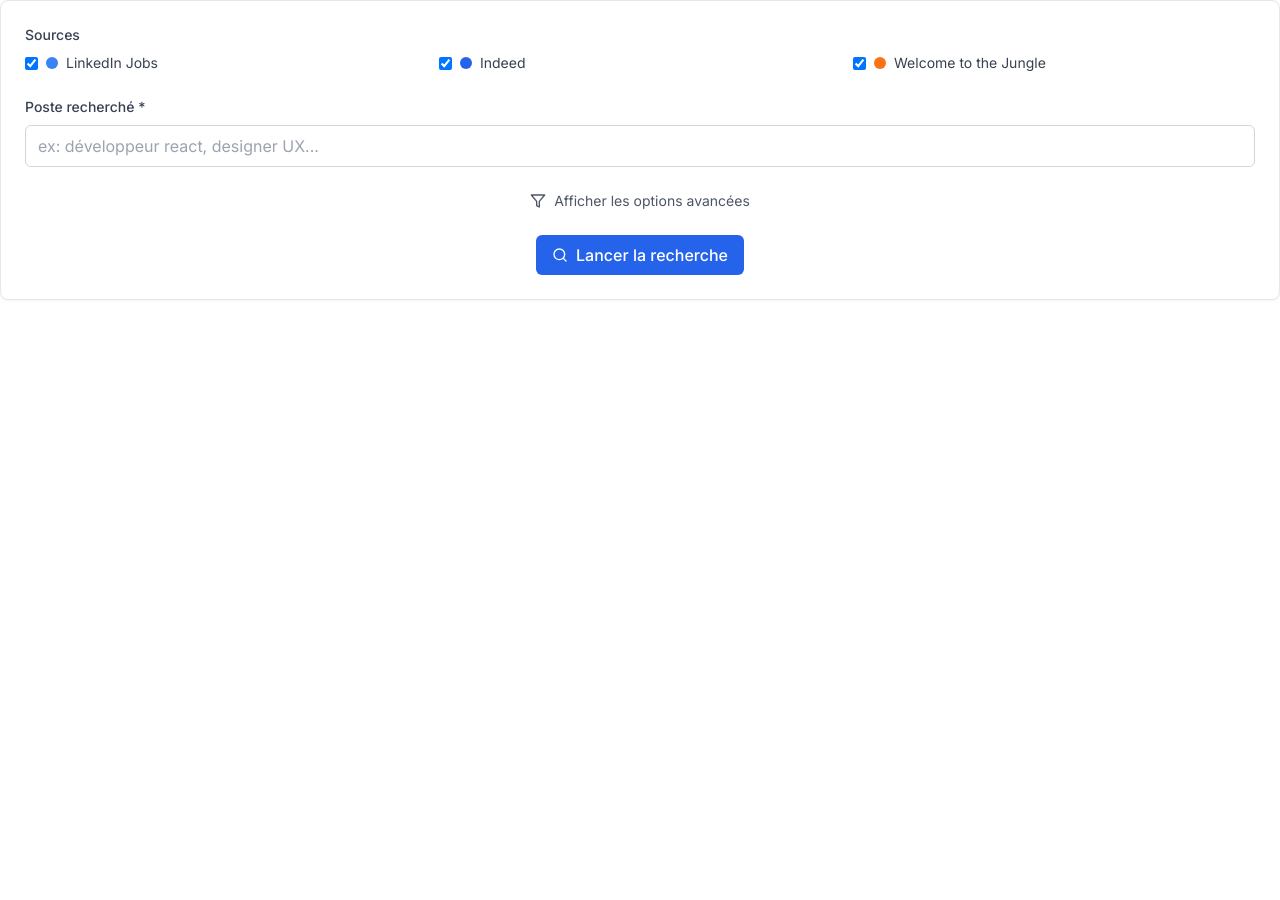
Test: JobSearchForm › adds technology on Enter key press
Click the button "Afficher les options avancées". click: {"x": 640, "y": 201}
box: [530,191,750,211]
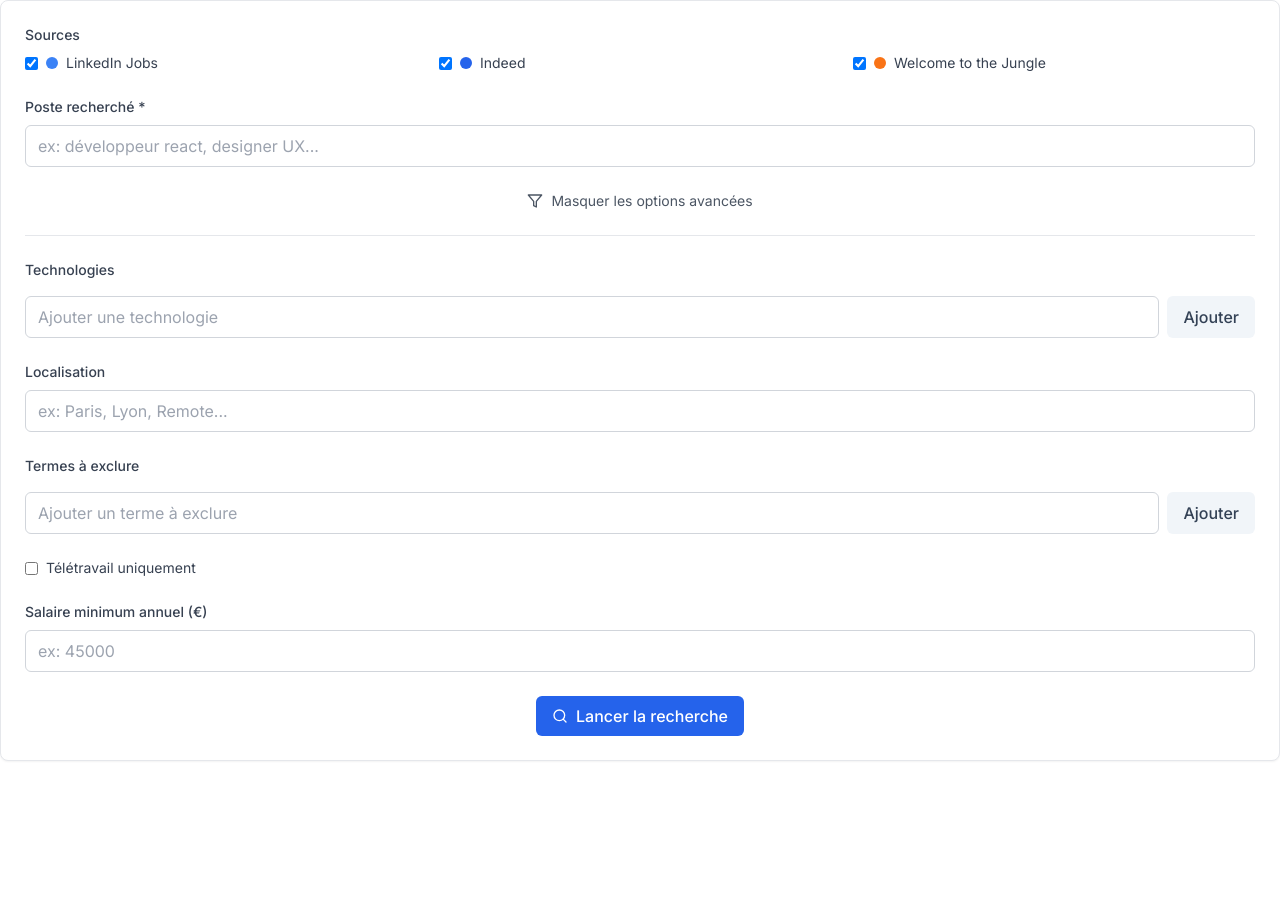
Type "TypeScript" into the field with placeholder "Ajouter une technologie". click: {"x": 592, "y": 317}
box: [25,296,1160,338]
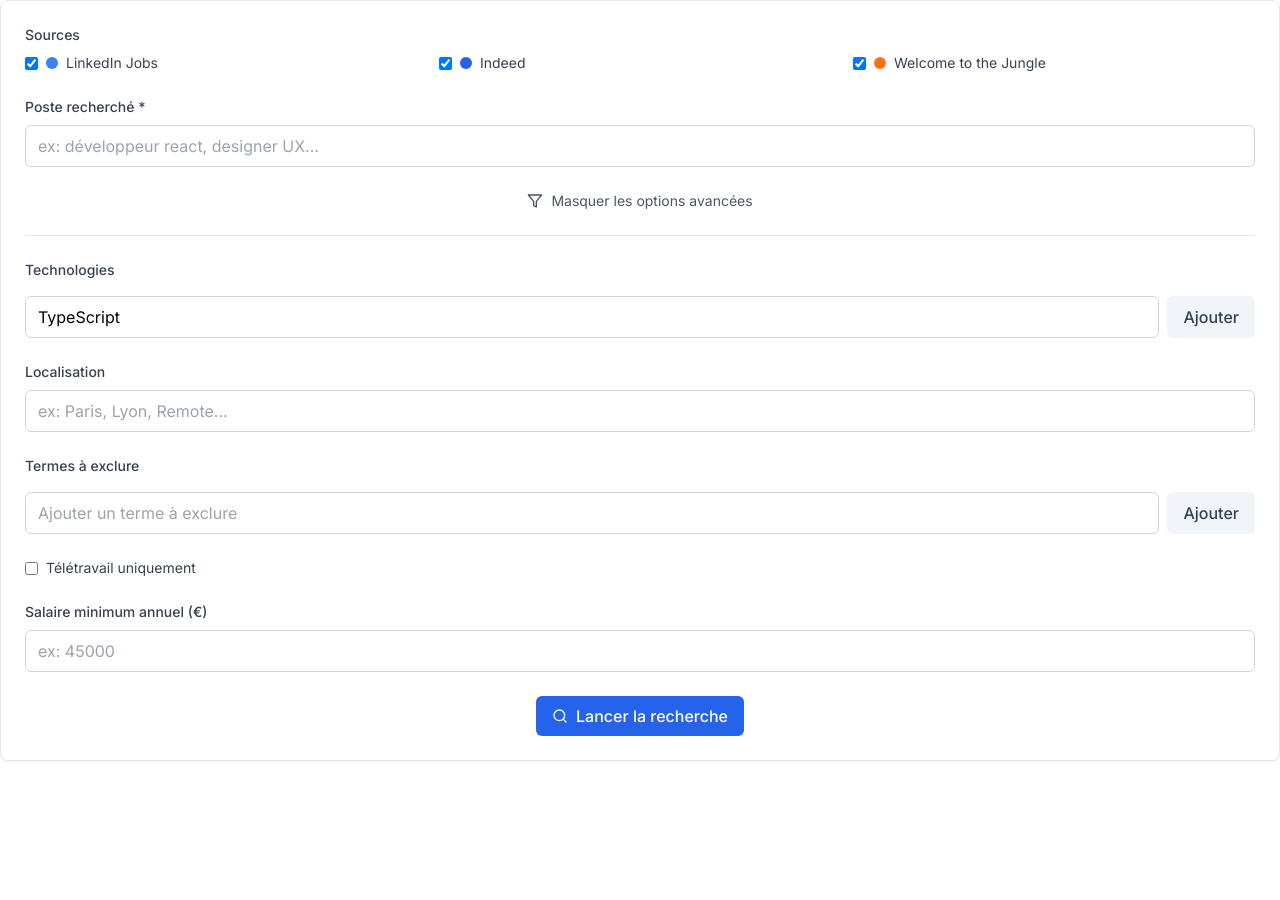
Press Enter in the field with placeholder "Ajouter une technologie", box [25,296,1160,338]
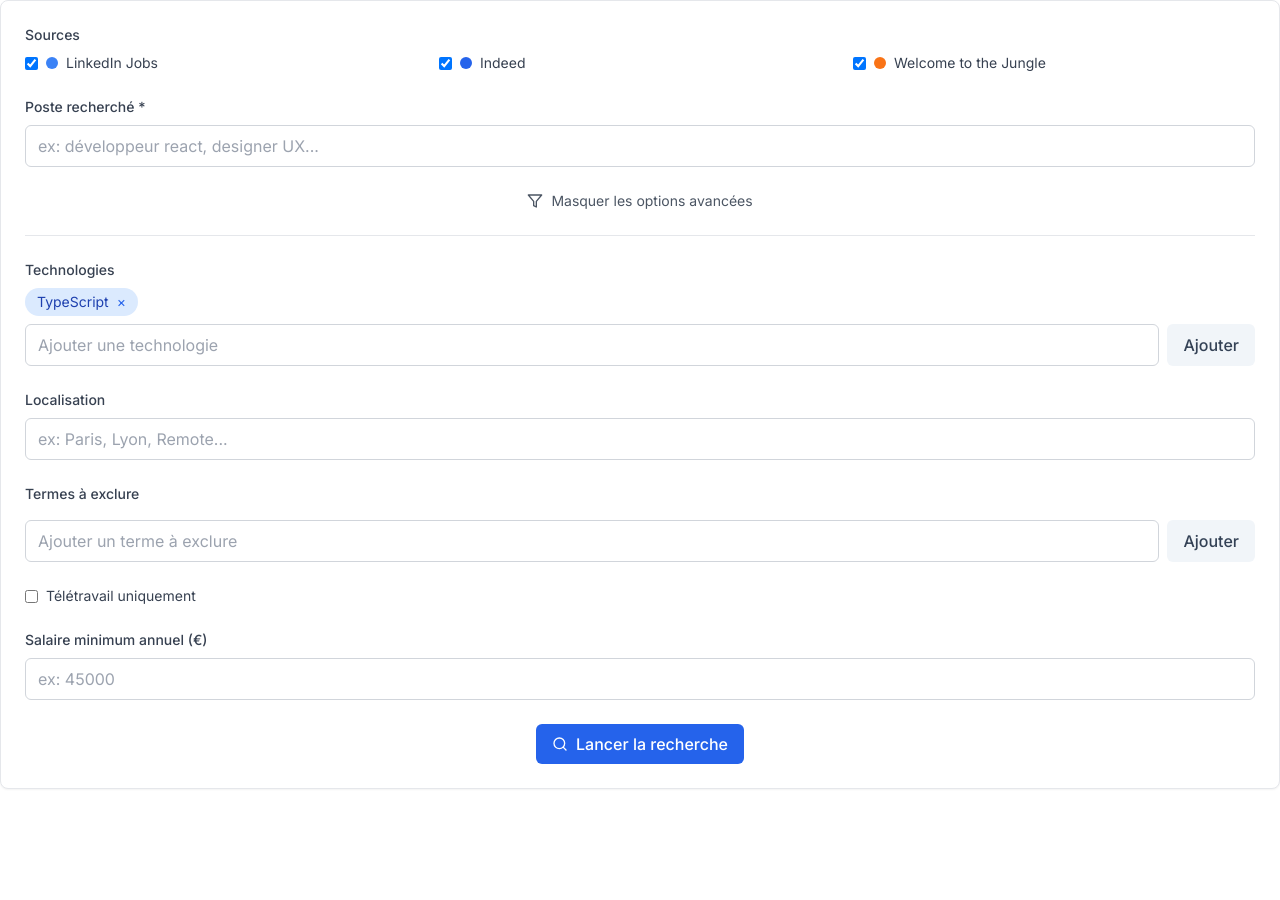
Expected: the text "TypeScript" is shown, [37,293,109,310]
